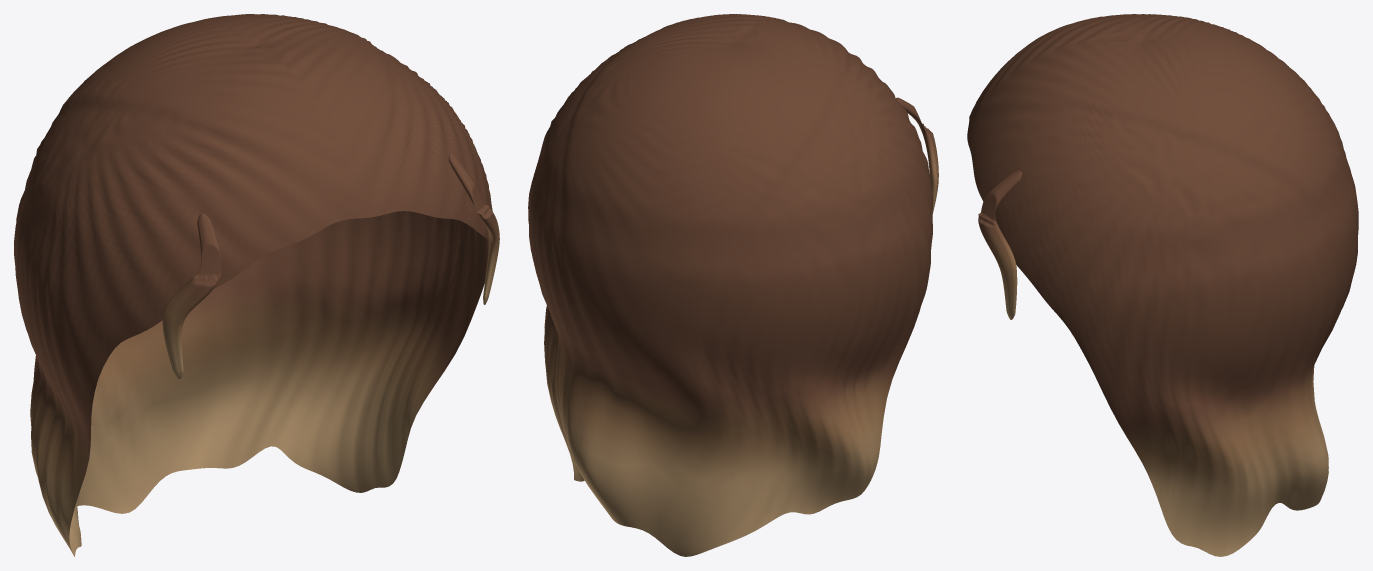
The model's file is space-buns-cowboy-ombre.glb.
3 renders of one model, left to right at view 1: azimuth 30°, elevation 25°; view 2: azimuth 150°, elevation 25°; view 3: azimuth 270°, elevation 25°, orthographic. The views are drawn at different scales.
Parts seen in each view (by area): view 1: 226 hair / Hair / chestnut226.002; view 2: 226 hair / Hair / chestnut226.002; view 3: 226 hair / Hair / chestnut226.002.
Part boxes in pixels (<box>): 226 hair / Hair / chestnut226.002: <box>14,14,499,556</box>; 226 hair / Hair / chestnut226.002: <box>528,14,938,556</box>; 226 hair / Hair / chestnut226.002: <box>967,14,1358,556</box>.
Bounding box in the file's own units: 0.8048 × 0.9701 × 0.7316.
1 material, 1 textured.
